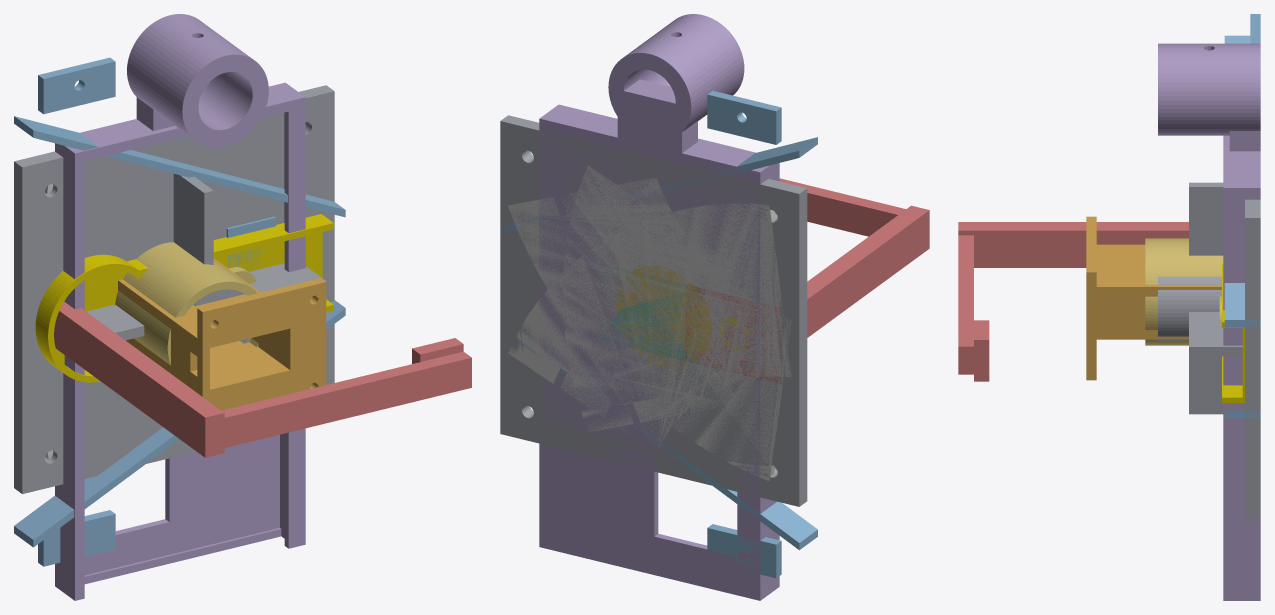
The model's file is piezas.glb.
The picture shows the model from 3 angles, left to right: view 1: azimuth 30°, elevation 25°; view 2: azimuth 150°, elevation 25°; view 3: azimuth 270°, elevation 25°; orthographic projection. The views are drawn at different scales.
Visible parts, largest first — view 1: soporte_celular, base_poste_celular, soporte_sensor_ir, torre_servo, tolva_entrada, canaleta, vaso; view 2: soporte_celular, base_poste_celular, placa_portavasos_A, placa_portavasos_C, placa_portavasos_B, soporte_sensor_ir, tolva_entrada, vaso, enganche_carro, torre_servo; view 3: soporte_celular, base_poste_celular, soporte_sensor_ir, torre_servo, vaso, tolva_entrada, canaleta.
Part boxes in pixels (box(x1,y1,x2,y2)): soporte_celular: box(55, 14, 305, 600); base_poste_celular: box(14, 85, 334, 493); soporte_sensor_ir: box(54, 302, 471, 457); torre_servo: box(118, 258, 326, 410); tolva_entrada: box(14, 57, 345, 566); canaleta: box(35, 214, 333, 382); vaso: box(115, 242, 258, 365); soporte_celular: box(539, 14, 779, 600); base_poste_celular: box(500, 115, 807, 506); placa_portavasos_A: box(508, 203, 791, 453); placa_portavasos_C: box(508, 177, 791, 481); placa_portavasos_B: box(562, 166, 736, 431); soporte_sensor_ir: box(685, 178, 929, 384); tolva_entrada: box(500, 90, 817, 578); vaso: box(615, 265, 711, 369); enganche_carro: box(599, 264, 700, 364); torre_servo: box(618, 283, 708, 354); soporte_celular: box(1158, 43, 1260, 600); base_poste_celular: box(1158, 182, 1260, 519); soporte_sensor_ir: box(958, 222, 1188, 381); torre_servo: box(1086, 216, 1221, 380); vaso: box(1145, 238, 1223, 345); tolva_entrada: box(1224, 14, 1260, 417); canaleta: box(1222, 264, 1244, 403).
Bounding box in the file's own units: 130 × 216 × 118.
